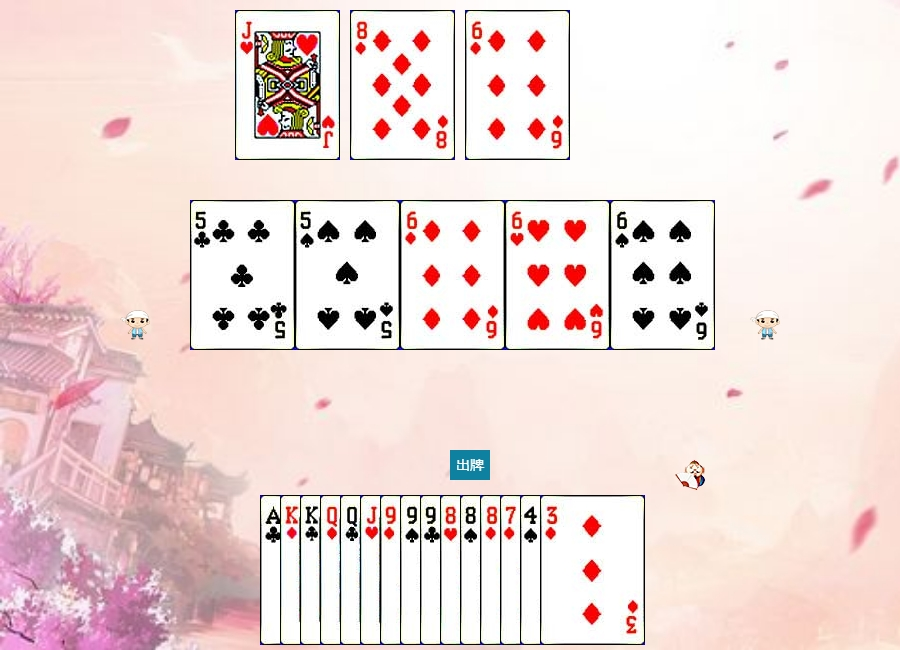11~3: (235, 10, 340, 160), (360, 495, 465, 645)
12~1: (320, 495, 425, 645)
12~2: (340, 495, 445, 645)
13~1: (280, 495, 385, 645)
13~2: (300, 495, 405, 645)
14~2: (260, 495, 365, 645)
3~1: (540, 495, 645, 645)
4~4: (520, 495, 625, 645)
5~2: (190, 200, 295, 350)
5~4: (295, 200, 400, 350)
6~1: (465, 10, 570, 160), (400, 200, 505, 350)
6~3: (505, 200, 610, 350)
6~4: (610, 200, 715, 350)
7~1: (500, 495, 605, 645)
8~1: (350, 10, 455, 160), (480, 495, 585, 645)
8~3: (440, 495, 545, 645)
8~4: (460, 495, 565, 645)
9~1: (380, 495, 485, 645)
9~2: (420, 495, 525, 645)
9~4: (400, 495, 505, 645)
